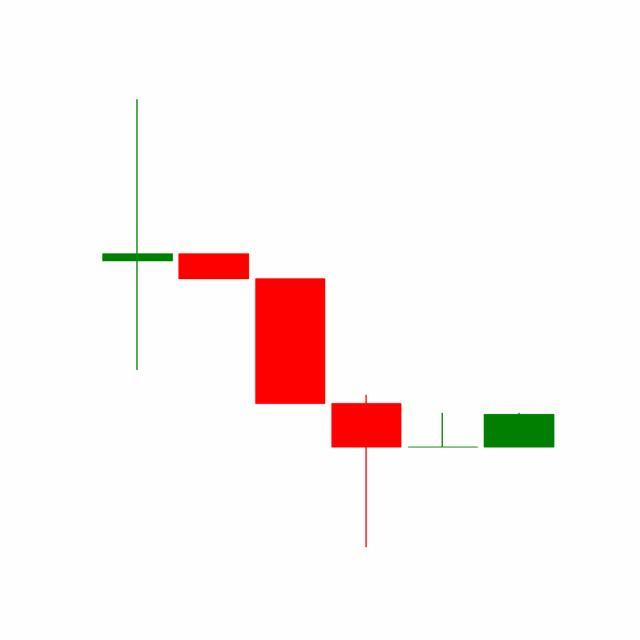Gravestone Doji: (404, 413, 482, 449)
